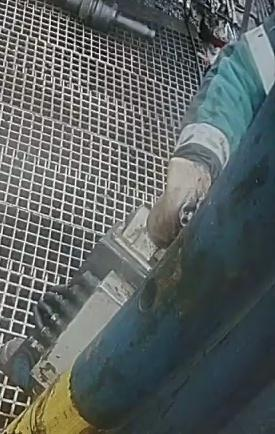gloves: (145, 156, 212, 249)
